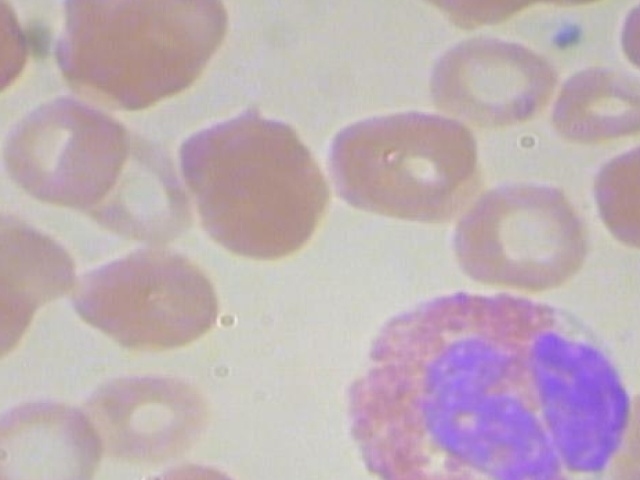Platelets: (543, 13, 591, 51)
RBC: (319, 100, 498, 227), (58, 239, 241, 359), (189, 130, 331, 267), (438, 172, 592, 296), (65, 363, 222, 469), (421, 20, 559, 136), (0, 91, 132, 212), (0, 395, 112, 480), (546, 60, 640, 148), (586, 138, 640, 254), (611, 0, 640, 106)
WBC: (329, 282, 640, 480)
